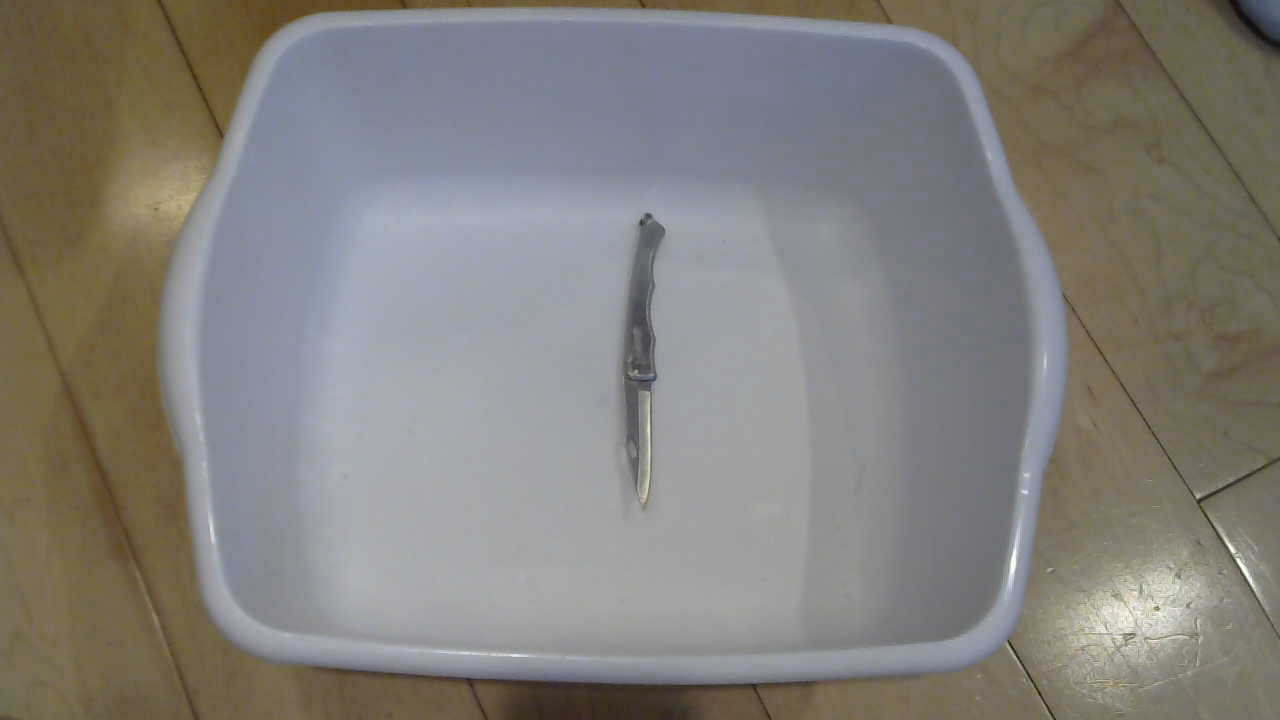knife: (571, 205, 690, 537)
